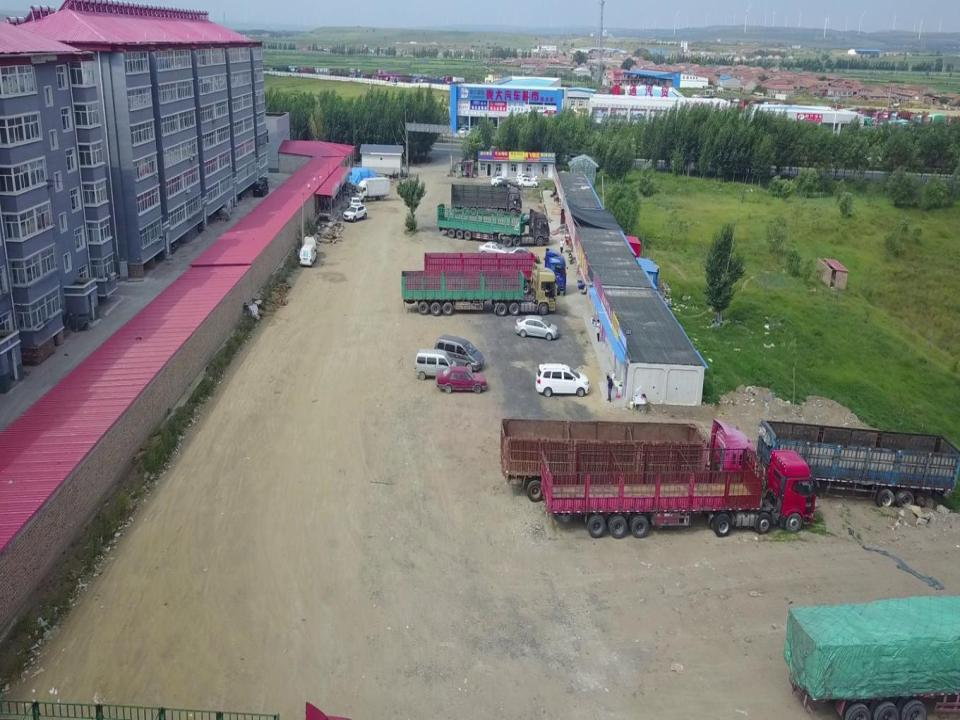car: (535, 362, 590, 397), (434, 334, 484, 371), (434, 366, 488, 395), (413, 346, 457, 380), (515, 314, 559, 341), (506, 246, 540, 264), (477, 240, 508, 258), (342, 203, 368, 222), (300, 243, 316, 266), (252, 180, 269, 196), (490, 175, 512, 187), (518, 176, 539, 188), (517, 173, 538, 184), (350, 196, 361, 207)
truck: (539, 438, 818, 540), (499, 413, 758, 503), (784, 594, 960, 713), (755, 414, 959, 506), (400, 261, 558, 317), (422, 248, 566, 298), (436, 202, 550, 248), (450, 180, 522, 216), (354, 176, 390, 201)
